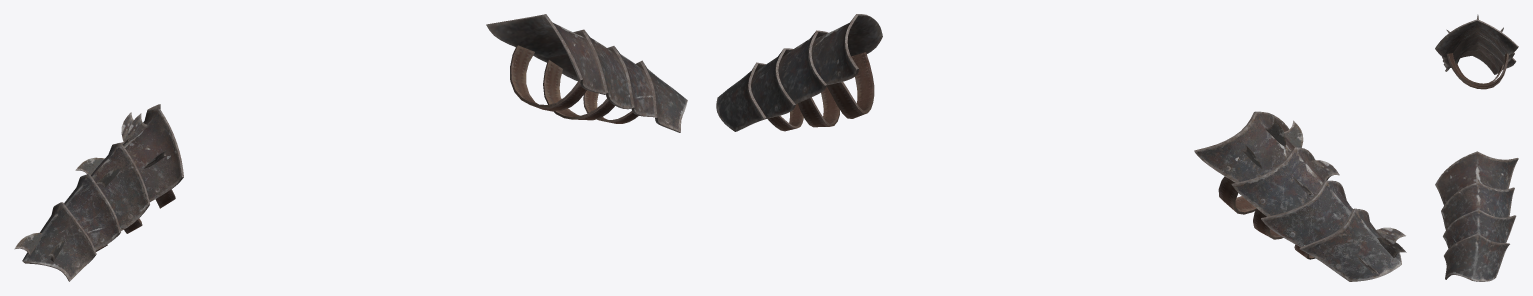
File: sk_dg_uruk_bracer_elite_b.fbx
3 views of the same model, side by side, from view 1: azimuth 30°, elevation 25°; view 2: azimuth 150°, elevation 25°; view 3: azimuth 270°, elevation 25° (orthographic). The views are drawn at different scales.
Visible parts, largest first — view 1: sk_dg_uruk_bracer_elite_b; view 2: sk_dg_uruk_bracer_elite_b; view 3: sk_dg_uruk_bracer_elite_b.
Boxes of the visible parts, x1,y1,x2,y2 form: sk_dg_uruk_bracer_elite_b: (14,14,687,281); sk_dg_uruk_bracer_elite_b: (716,14,1406,281); sk_dg_uruk_bracer_elite_b: (1435,14,1518,281).
Size of the model in its own units: 1.5 by 0.2322 by 0.2781.
Materials: 1 (1 with a texture image).
